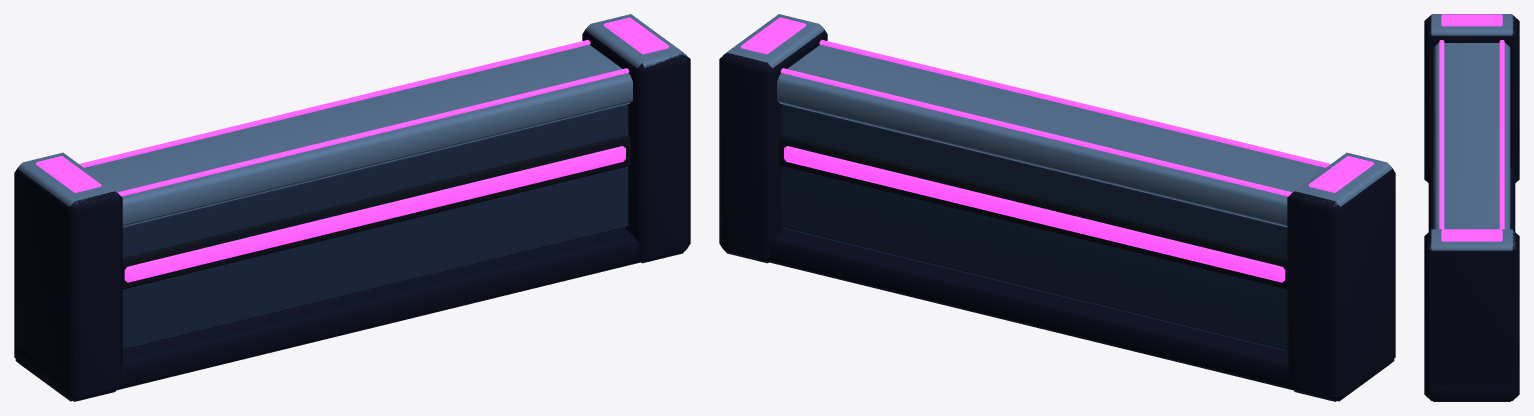
The model's file is NT_Wall_Long_Magenta.fbx.
The picture shows the model from 3 angles, left to right: view 1: azimuth 30°, elevation 25°; view 2: azimuth 150°, elevation 25°; view 3: azimuth 270°, elevation 25°; orthographic projection. The views are drawn at different scales.
Visible parts, largest first — view 1: NT_Wall_Long_Magenta__WallMesh; view 2: NT_Wall_Long_Magenta__WallMesh; view 3: NT_Wall_Long_Magenta__WallMesh.
Part boxes in pixels (x1=…): NT_Wall_Long_Magenta__WallMesh: x1=14, y1=14, x2=690, y2=401; NT_Wall_Long_Magenta__WallMesh: x1=719, y1=14, x2=1395, y2=401; NT_Wall_Long_Magenta__WallMesh: x1=1424, y1=14, x2=1519, y2=401.
Bounding box in the file's own units: 4 × 1.26 × 0.68.
